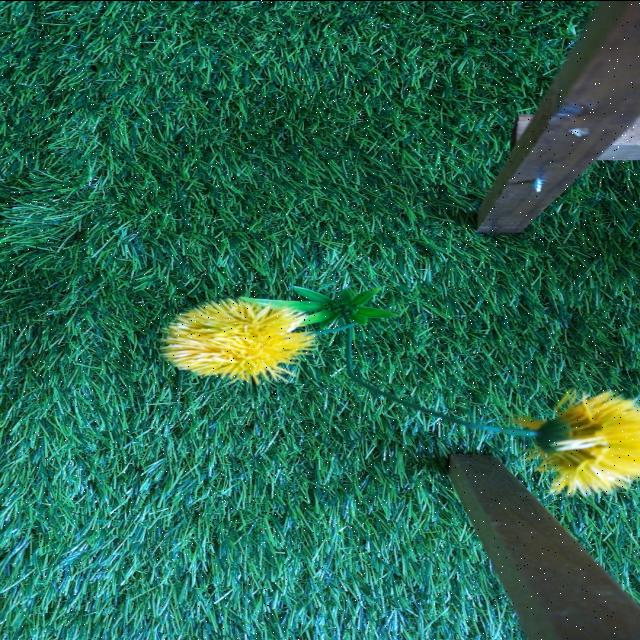base: (242, 282, 392, 330)
flower: (520, 386, 640, 492), (162, 297, 308, 378)
